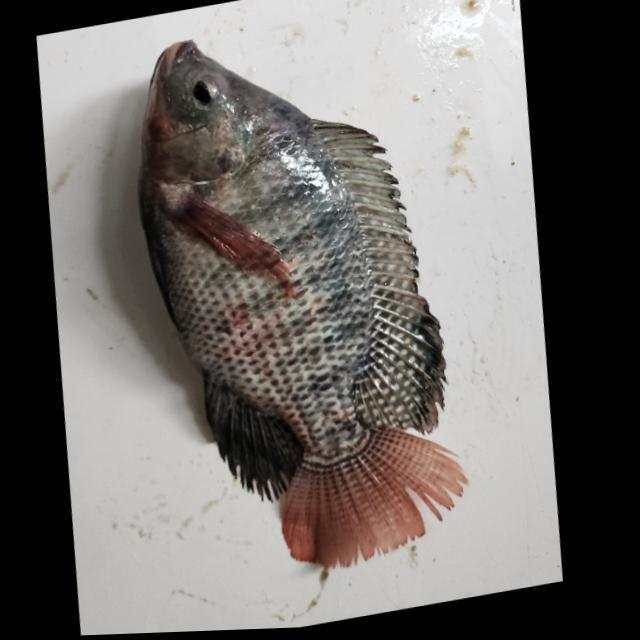Tilapia: (90, 0, 512, 601)
